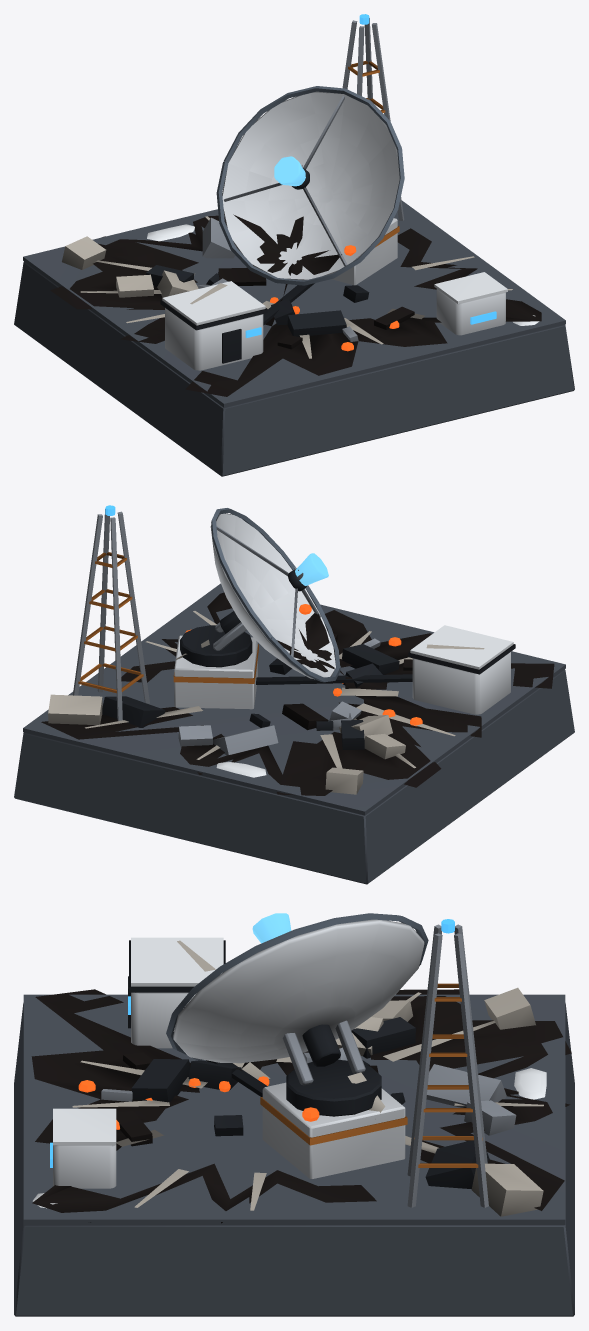
Rendered from relay-station-vesper.glb.
3 renders of one model, top to bottom at view 1: azimuth 30°, elevation 25°; view 2: azimuth 150°, elevation 25°; view 3: azimuth 270°, elevation 25°, orthographic. The views are drawn at different scales.
Parts seen in each view (by area): view 1: site_relay_station_vesper_body, site_relay_station_vesper_ruin, site_relay_station_vesper_core; view 2: site_relay_station_vesper_body, site_relay_station_vesper_ruin, site_relay_station_vesper_core; view 3: site_relay_station_vesper_body, site_relay_station_vesper_ruin, site_relay_station_vesper_core.
Boxes of the visible parts, x1,y1,x2,y2 form: site_relay_station_vesper_body: [14, 14, 574, 476]; site_relay_station_vesper_ruin: [50, 165, 541, 396]; site_relay_station_vesper_core: [274, 156, 309, 189]; site_relay_station_vesper_body: [14, 505, 574, 884]; site_relay_station_vesper_ruin: [41, 567, 554, 795]; site_relay_station_vesper_core: [288, 553, 328, 591]; site_relay_station_vesper_body: [14, 913, 574, 1316]; site_relay_station_vesper_ruin: [31, 940, 571, 1223]; site_relay_station_vesper_core: [252, 913, 291, 943].
Bounding box in the file's own units: 5.75 × 4.1 × 5.75.
